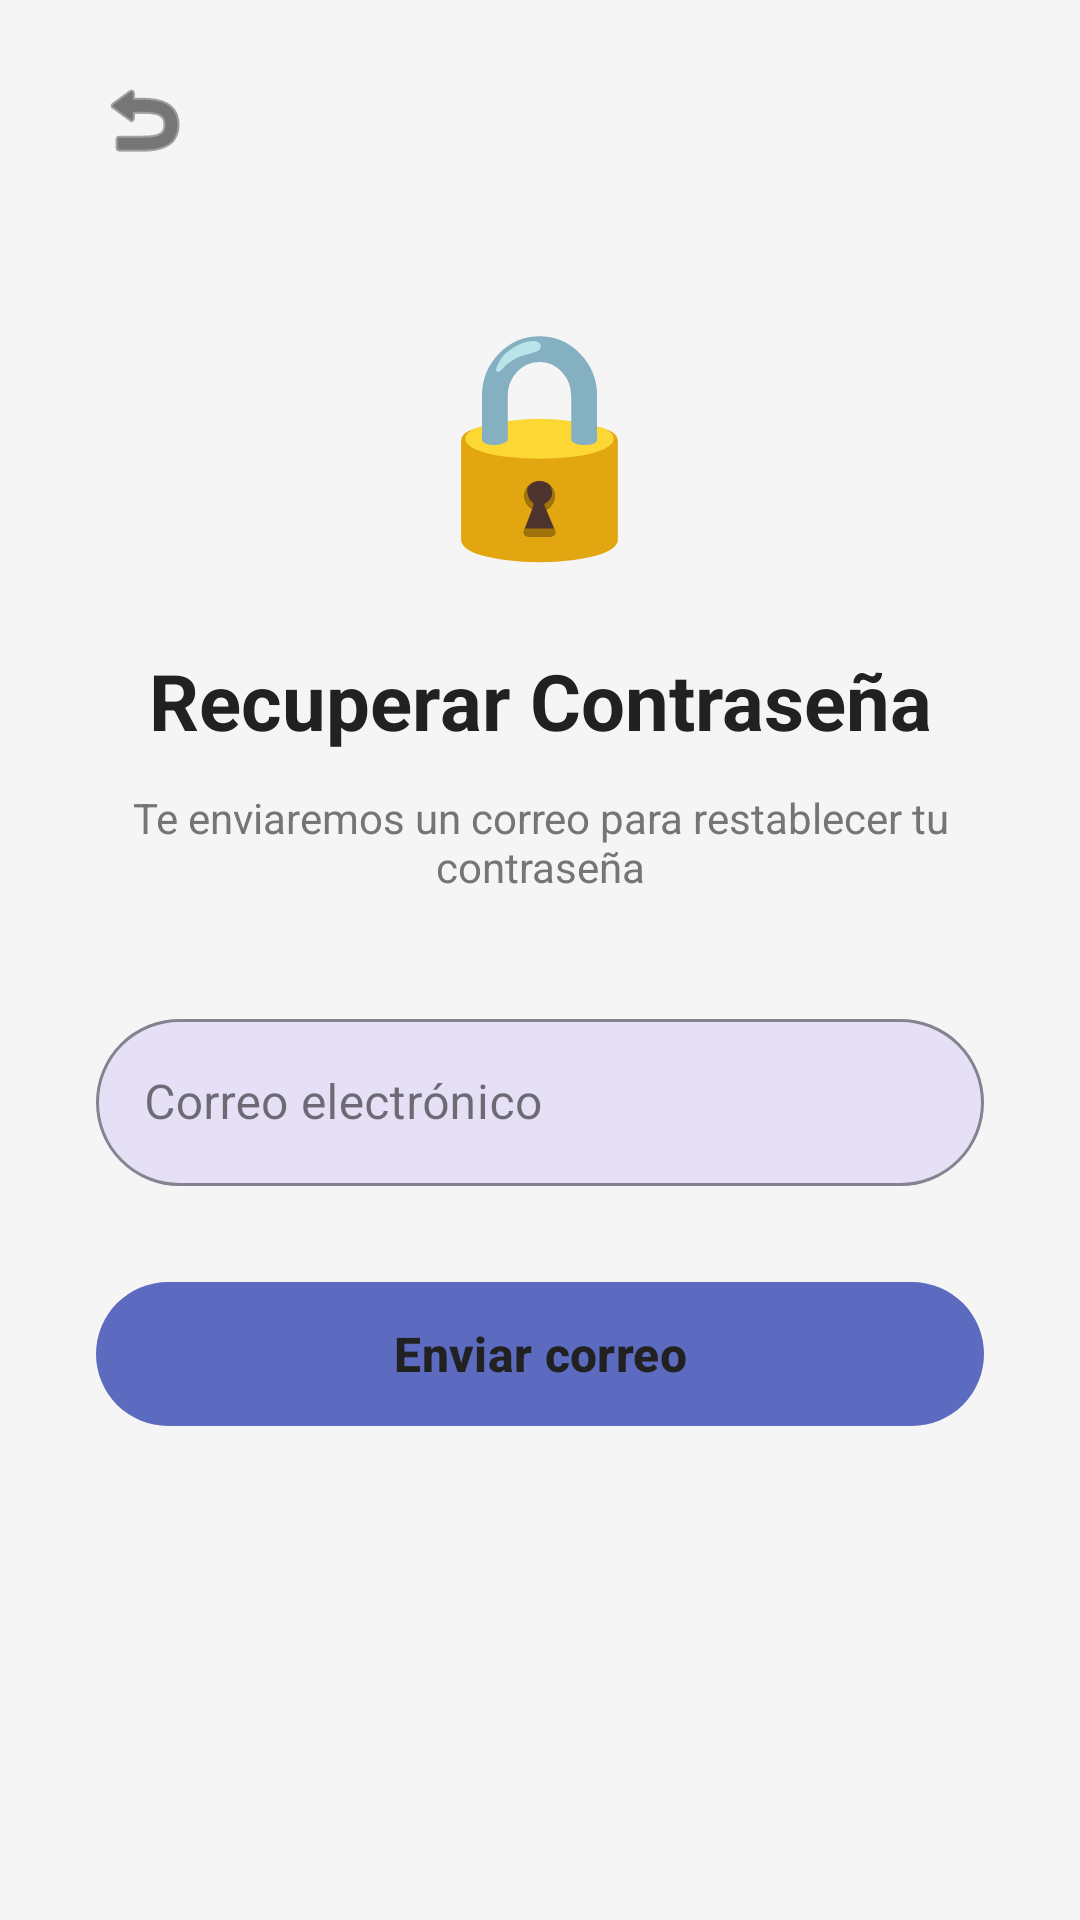

Where to tap for icons on this 1080*1920 app screen, as (x=x, y=y):
Volver: (x=145, y=120)
